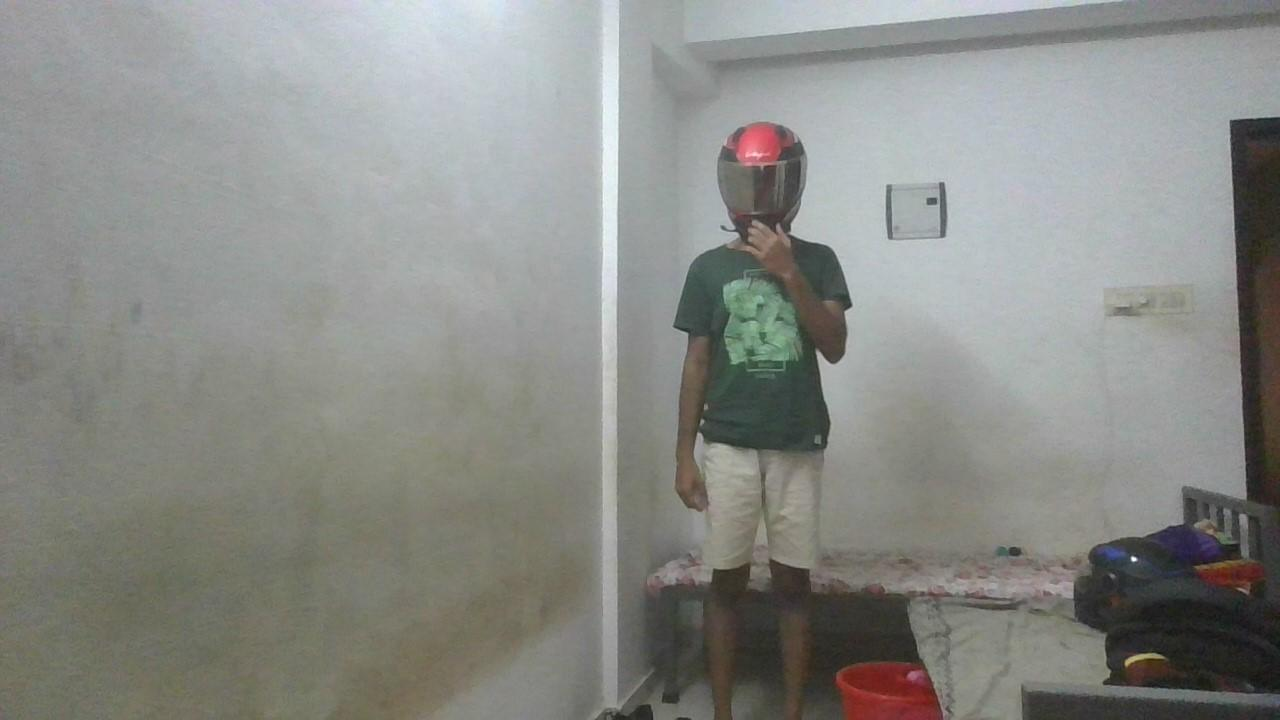helmet: (716, 121, 809, 245)
